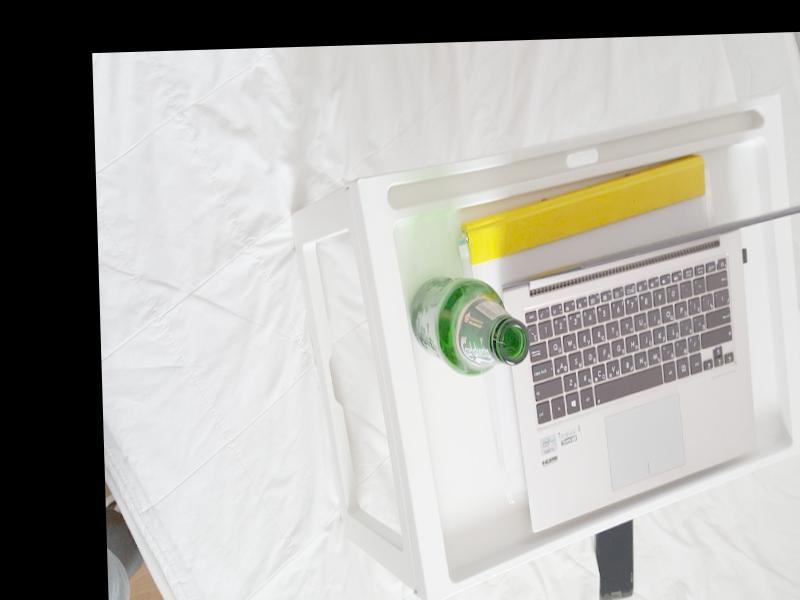Beer: (408, 274, 528, 378)
